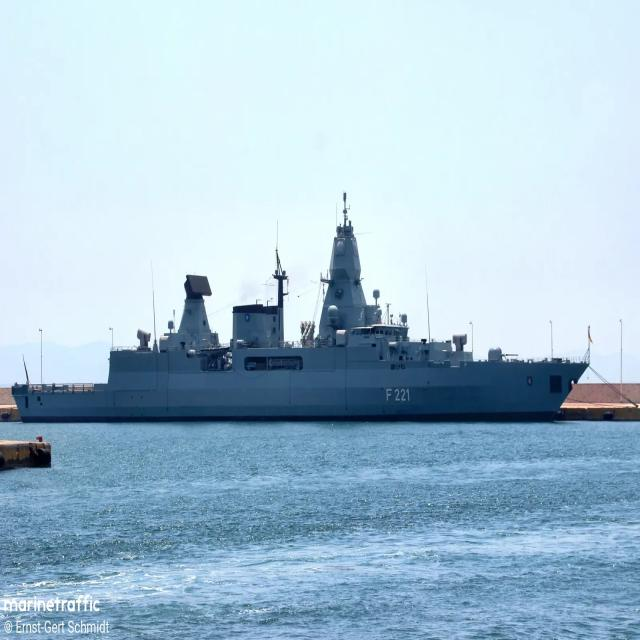Military: (12, 195, 589, 422)
